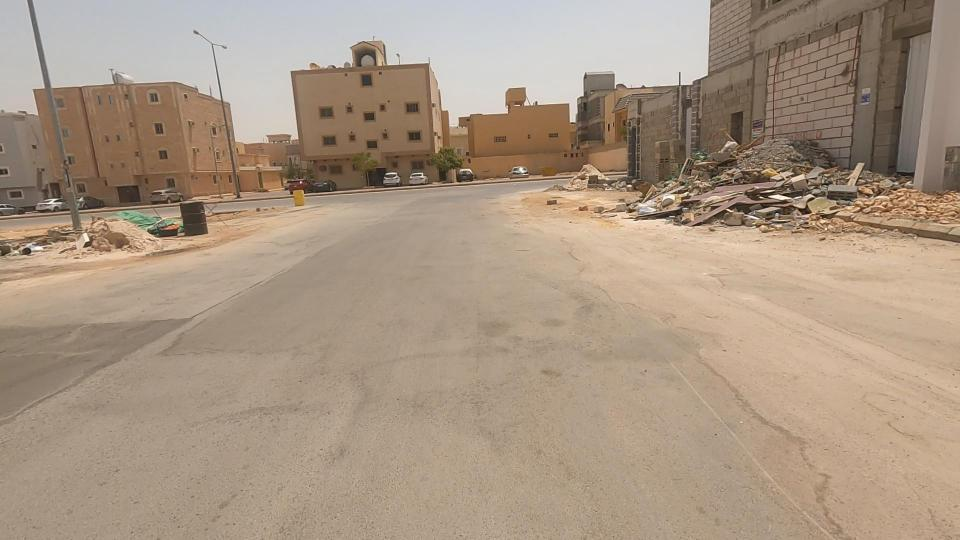GARBAGE: (666, 127, 875, 282), (585, 130, 768, 283), (75, 170, 214, 271), (0, 190, 127, 295)
